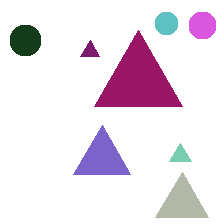circle: (10, 25, 40, 55), (189, 12, 215, 38), (155, 12, 177, 34)
triangle: (94, 30, 182, 106), (73, 125, 130, 174), (155, 172, 208, 217), (169, 143, 191, 161), (80, 40, 99, 56)
